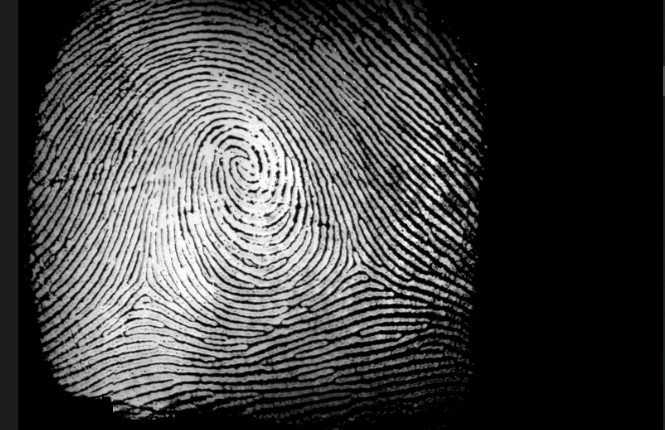deltas: (115, 252, 175, 324), (330, 240, 384, 293)
nucleo: (208, 133, 276, 201)
